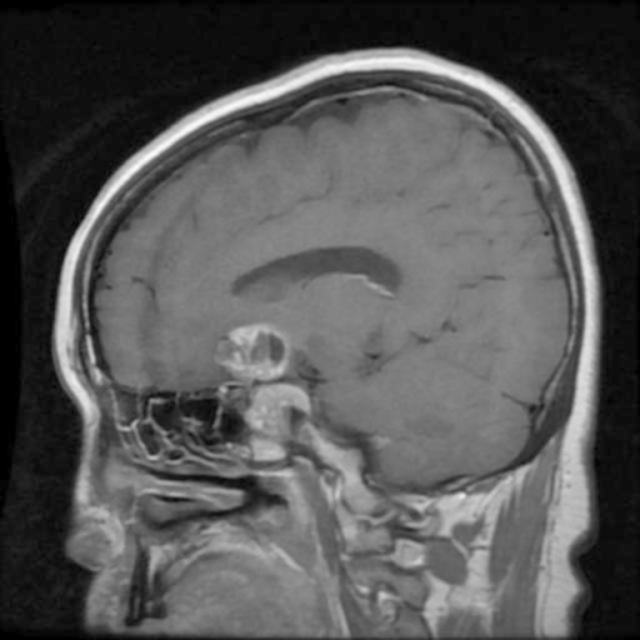no tumor: (230, 330, 304, 446)
